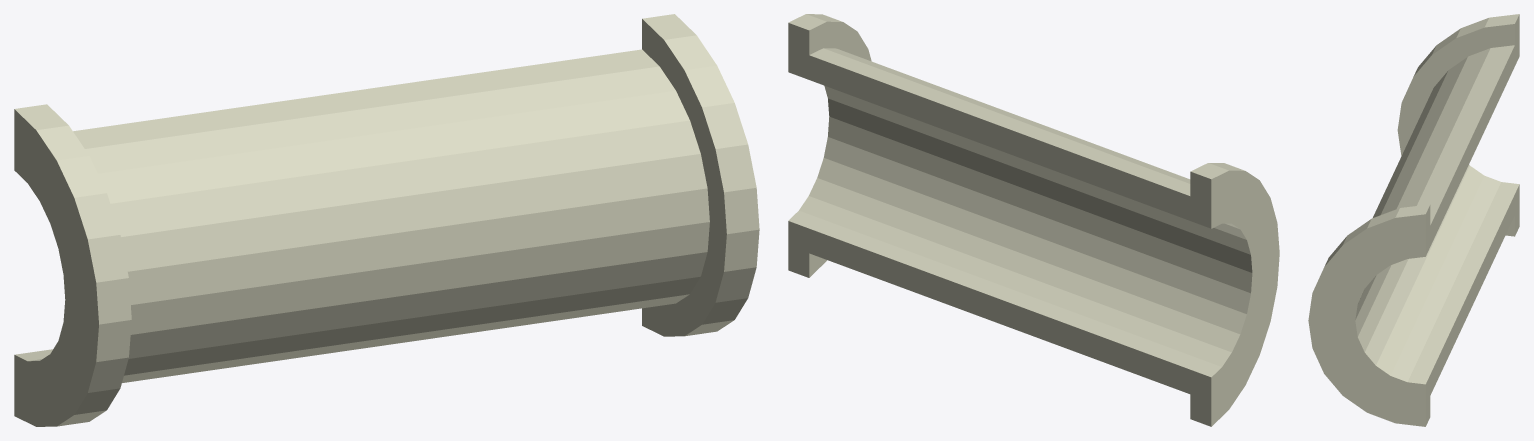
The model's file is section_129.obj.
3 views of the same model, side by side, from view 1: azimuth 30°, elevation 25°; view 2: azimuth 150°, elevation 25°; view 3: azimuth 270°, elevation 25° (orthographic). The views are drawn at different scales.
Size of the model in its own units: 20.19 by 10 by 9.
